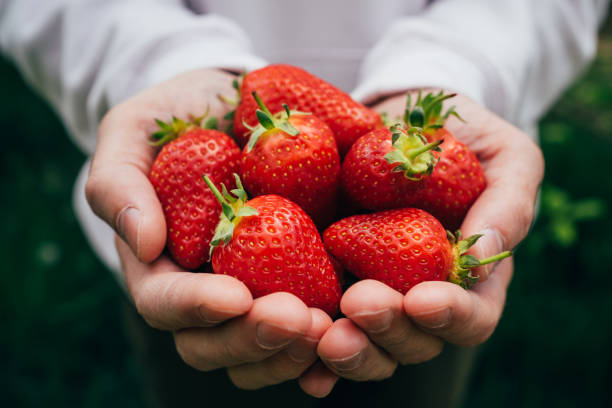Fresa: (208, 191, 345, 317), (230, 59, 387, 160), (149, 119, 244, 274), (321, 202, 469, 294), (241, 102, 344, 219), (341, 122, 432, 212)
